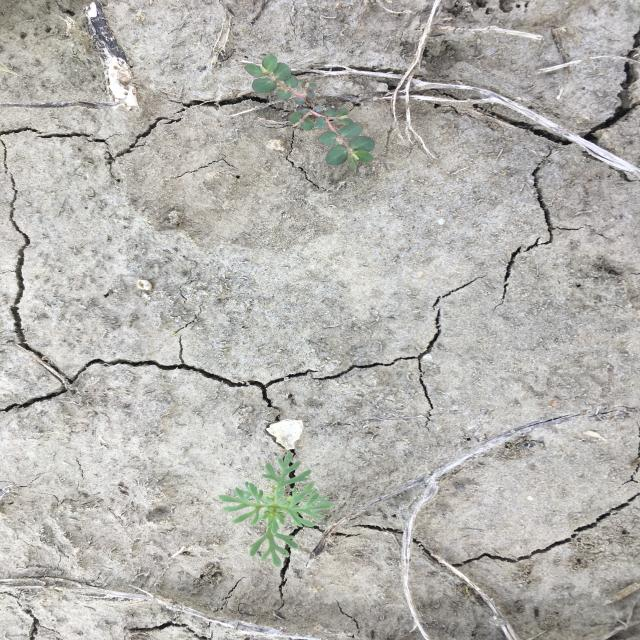Ragweed: (215, 450, 338, 569)
SpottedSpurge: (242, 52, 377, 172)
